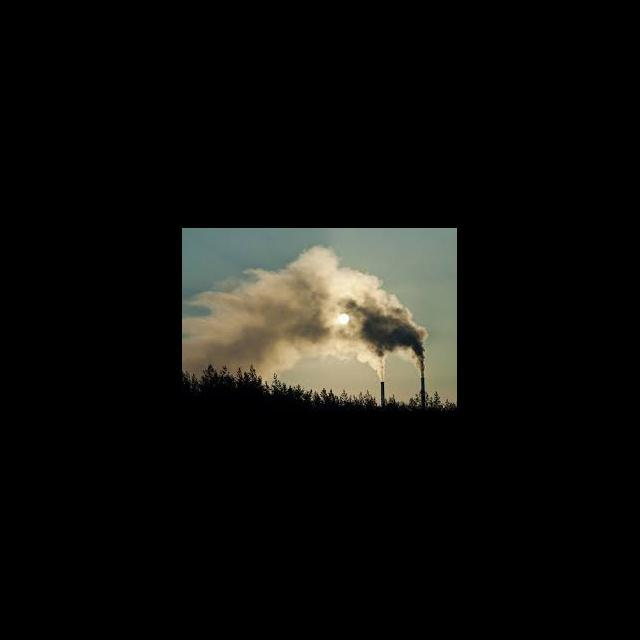Smoke: (190, 284, 288, 362), (292, 245, 392, 310), (359, 318, 429, 360), (290, 327, 357, 368)
